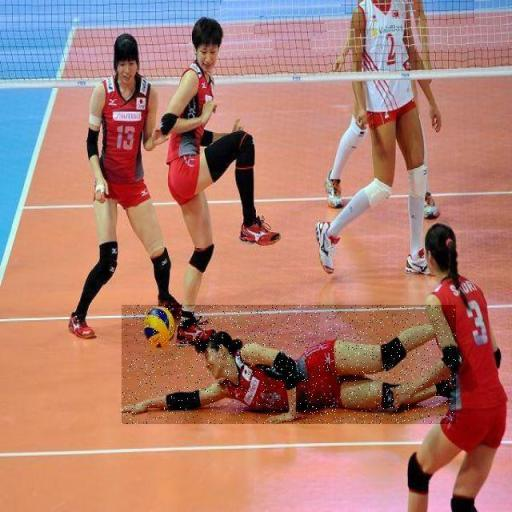Fall: (122, 305, 456, 424)
